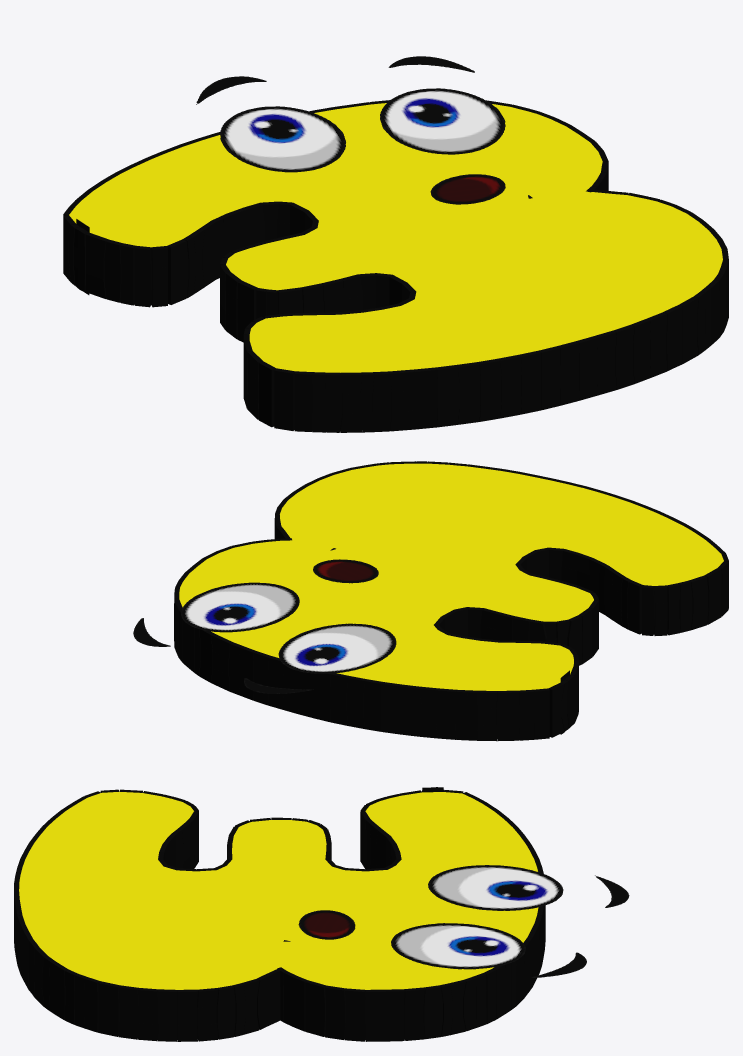
Rendered from number 3 .fbx.
3 views of the same model, one above another, from view 1: azimuth 30°, elevation 25°; view 2: azimuth 150°, elevation 25°; view 3: azimuth 270°, elevation 25° (orthographic). The views are drawn at different scales.
Parts seen in each view (by area): view 1: Plane.002; view 2: Plane.002; view 3: Plane.002.
Boxes of the visible parts, bbox=[...] form: Plane.002: bbox=[63, 56, 728, 432]; Plane.002: bbox=[133, 461, 728, 741]; Plane.002: bbox=[14, 787, 629, 1041].
Size of the model in its own units: 65.98 by 7.6 by 83.31.
3 materials, 1 textured.
